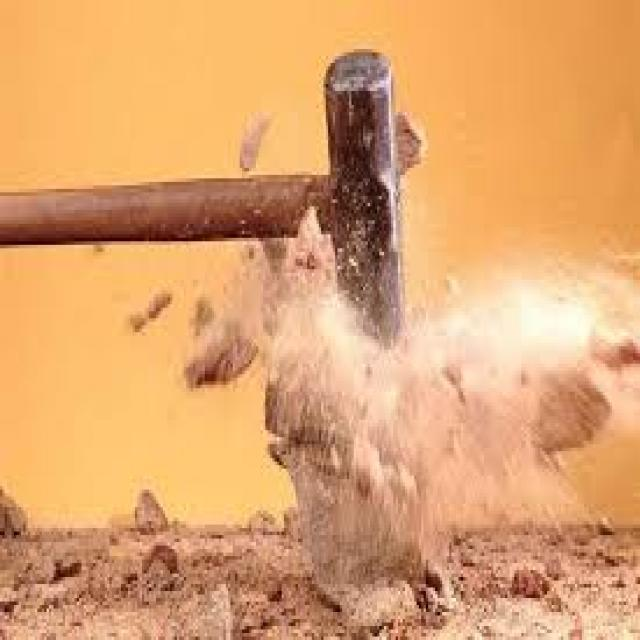hammer: (1, 40, 409, 352)
